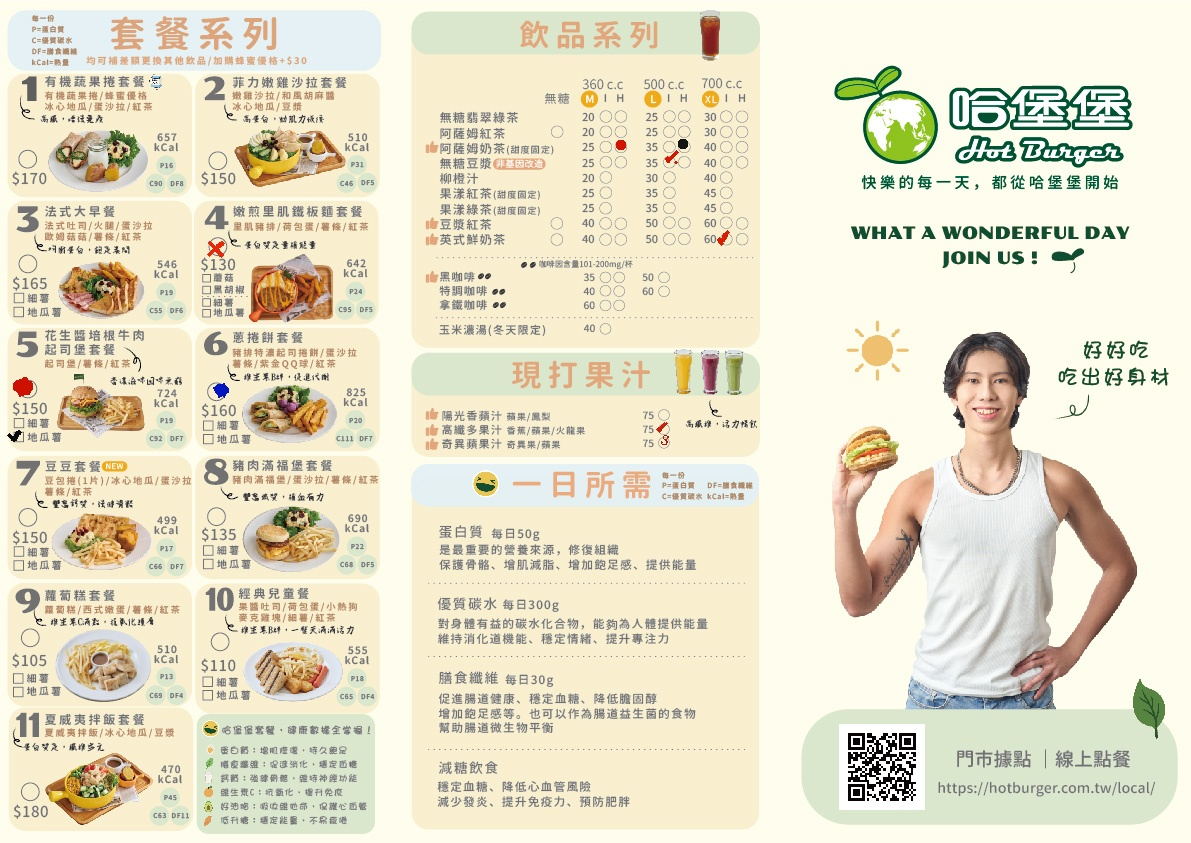marked_circle: (206, 382, 225, 402), (18, 379, 37, 399), (677, 140, 689, 152), (614, 140, 626, 152)
marked_number_3: (657, 439, 669, 451)
marked_tick: (657, 423, 669, 435), (720, 234, 732, 246), (663, 156, 675, 168), (12, 431, 23, 439)
marked_x: (206, 236, 225, 256)
